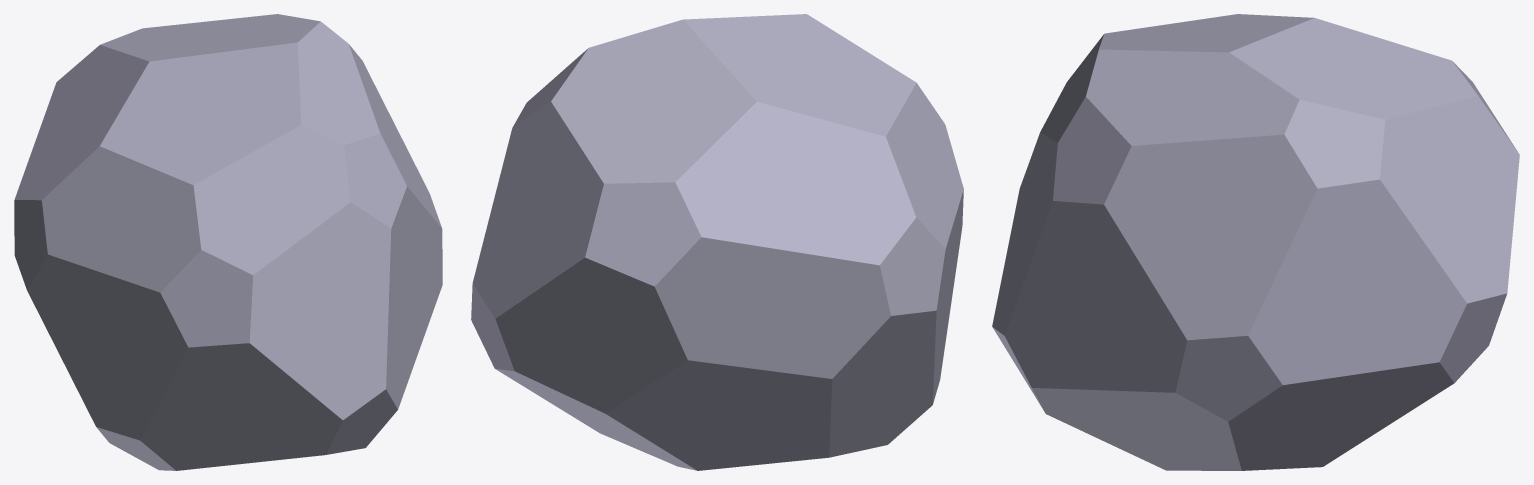
The model's file is Batusedang1.fbx.
3 views of the same model, side by side, from view 1: azimuth 30°, elevation 25°; view 2: azimuth 150°, elevation 25°; view 3: azimuth 270°, elevation 25° (orthographic). The views are drawn at different scales.
Parts seen in each view (by area): view 1: rock_1b; view 2: rock_1b; view 3: rock_1b.
Part boxes in pixels (box(x1,y1,x2,y2)): rock_1b: box(14, 14, 442, 470); rock_1b: box(471, 14, 963, 470); rock_1b: box(992, 14, 1519, 470).
Bounding box in the file's own units: 228 × 220 × 242.
